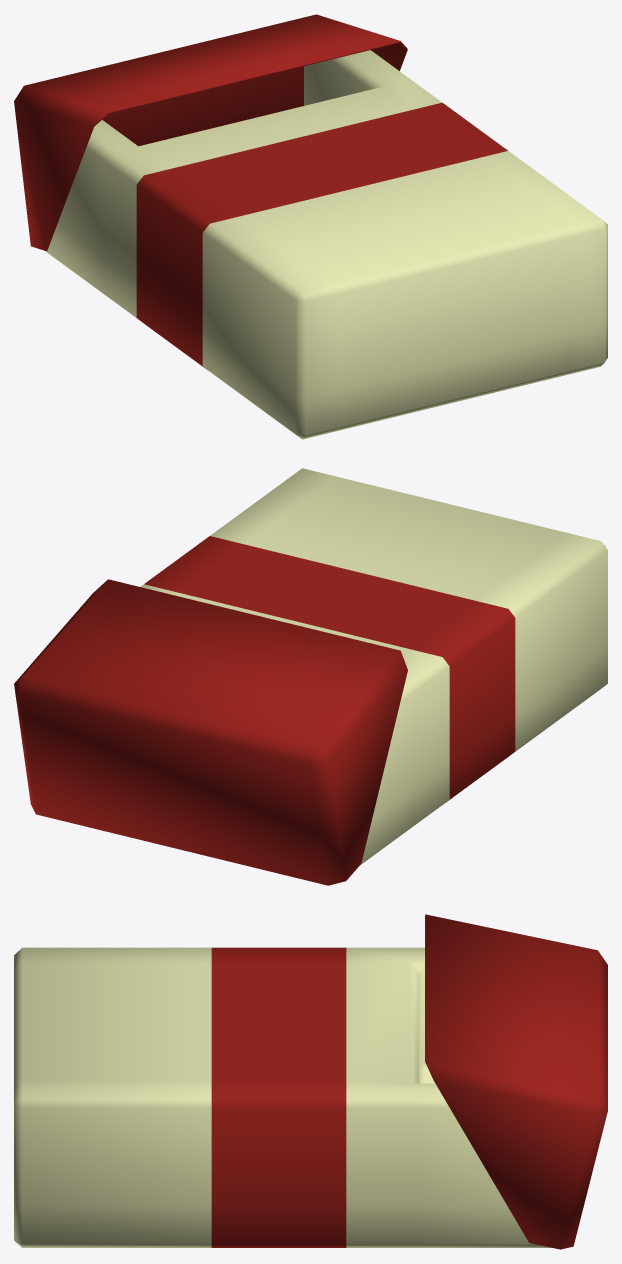
File: Cigarette_Pack.fbx
3 renders of one model, top to bottom at view 1: azimuth 30°, elevation 25°; view 2: azimuth 150°, elevation 25°; view 3: azimuth 270°, elevation 25°, orthographic. The views are drawn at different scales.
Visible parts, largest first — view 1: Cigarette_Pack; view 2: Cigarette_Pack; view 3: Cigarette_Pack.
Boxes of the visible parts, x1,y1,x2,y2 form: Cigarette_Pack: [14, 14, 607, 439]; Cigarette_Pack: [14, 468, 607, 885]; Cigarette_Pack: [14, 914, 607, 1249].
Bounding box in the file's own units: 445 × 246 × 711.
